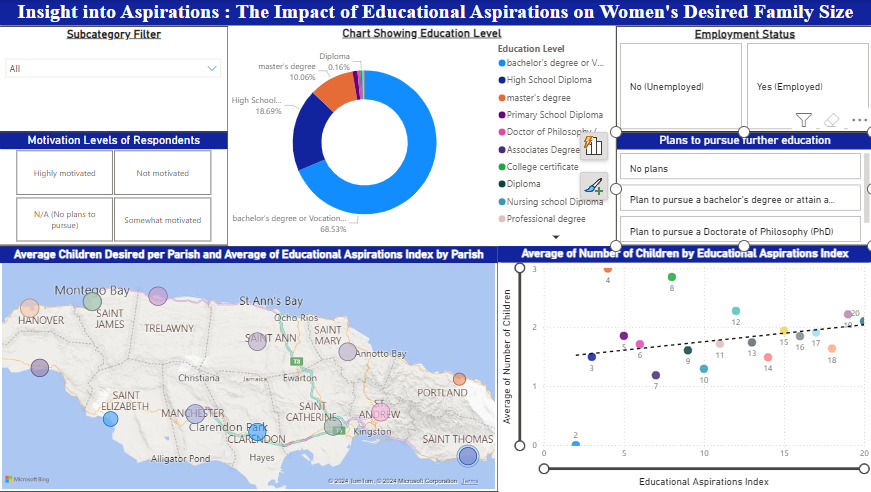

This screenshot's page, from the dashboard's own definition file:
{"tool":"powerbi","page":{"name":"Page 1","canvas":[1280,720],"ordinal":0},"visuals":[{"type":"textbox","title":"Insight into Aspirations : The Impact of Educational Aspirations on Women''s Desired Family Size","box":[0,0,1280,38.6],"z":0},{"type":"map","fields":{"Category":["Sheet 2.Parish"],"Size":["Sheet 2.Average Children Desired per Parish"]},"box":[0,360,732.3,360],"z":1000},{"type":"scatterChart","fields":{"Y":["Avg(Sheet 2.Number of Children)"],"X":["Sheet 2.Educational Aspirations Index"]},"box":[732.3,360,547.7,358.5],"z":2000},{"type":"slicer","title":"Subcategory Filter","fields":{"Values":["Sheet 2.Religiousity","Sheet 2.Relationship Status","Sheet 2.Education Level","Sheet 2.Employment Status"]},"box":[0,38.5,336.9,155.4],"z":3000},{"type":"slicer","title":"Motivation Levels of Respondents","fields":{"Values":["Sheet 2.Motivation Levels"]},"box":[0,193.8,336.9,166.2],"z":4000},{"type":"donutChart","title":"Chart Showing Education Level","fields":{"Category":["Sheet 2.Education Level"],"Y":["CountNonNull(Sheet 2.Education Level)"],"Series":["Sheet 2.Education Level"]},"box":[336.9,38.5,567.7,321.5],"z":5000},{"type":"advancedSlicerVisual","title":"Plans to pursue further education","fields":{"Values":["Sheet 2.Do you have plans to pursue further education?"]},"box":[904.6,193.8,375.4,166.2],"z":5001},{"type":"advancedSlicerVisual","fields":{"Values":["Sheet 2.Employment Status"]},"box":[904.6,38.5,375.4,155.4],"z":5002}]}

Visuals, with their boxes in screenshot pixels (x1, y1, x2, y2), scaled from the page's 1280x720 canvas onto the 871x492 screenshot:
"Insight into Aspirations : The Impact of Educational Aspirations on Women''s Desired Family Size" textbox: bbox=(0, 0, 870, 26)
map - Sheet 2.Parish x Sheet 2.Average Children Desired per Parish: bbox=(0, 246, 498, 491)
scatterChart - Avg(Sheet 2.Number of Children) x Sheet 2.Educational Aspirations Index: bbox=(498, 246, 870, 491)
"Subcategory Filter" slicer: bbox=(0, 26, 229, 132)
"Motivation Levels of Respondents" slicer: bbox=(0, 132, 229, 246)
"Chart Showing Education Level" donutChart: bbox=(229, 26, 616, 246)
"Plans to pursue further education" advancedSlicerVisual: bbox=(616, 132, 870, 246)
advancedSlicerVisual - Sheet 2.Employment Status: bbox=(616, 26, 870, 132)
